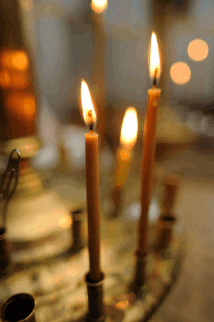Fire: (115, 101, 153, 154), (72, 73, 107, 127), (144, 21, 170, 83)
